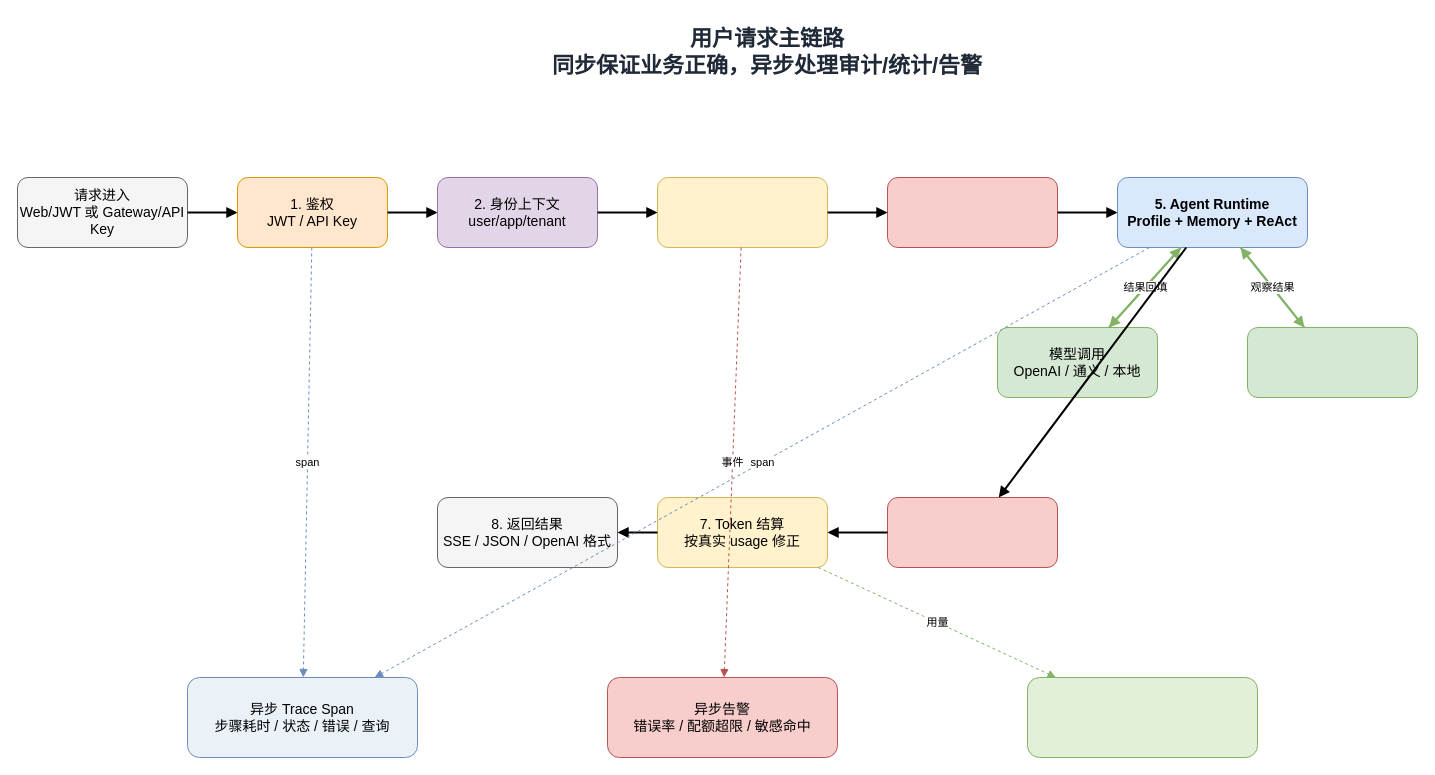
The diagram is 1435 pixels wide and 775 high, and some of its shapes have lost their labels. The shapes that lost their labels are listed below. From the top down, each one's centre as x and y in pixels, then its label:
point (742, 212): 3. Token 配额 事务或 Redis 预扣
point (972, 212): 4. 请求安全扫描 脱敏 / 阻断
point (1332, 362): Skill / MCP 调用 天气 / 搜索 / 计算器
point (972, 532): 6. 响应安全扫描 脱敏 / 阻断
point (1142, 717): 异步统计 趋势 / TOP 消费者 / 慢调用
